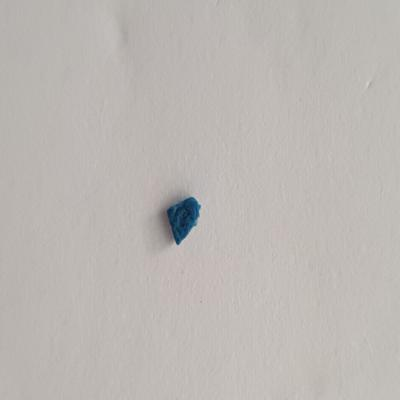plastic: (159, 195, 207, 248)
